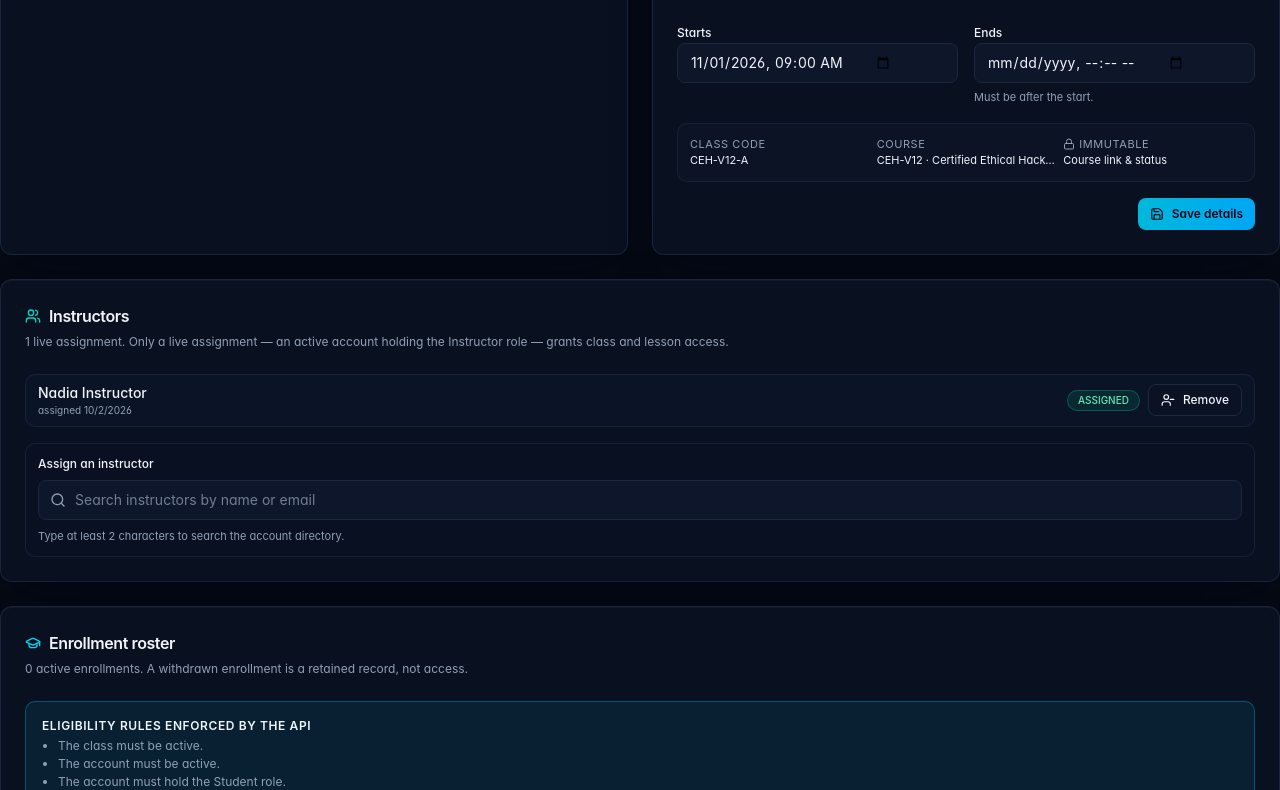
it: Step-up replay on class mutations › treats a replayed 204 removal as success, not as a cancellation
(page scrolled)
Check: the text "Nadia Instructor" is shown, box [38,383,147,403]
Click the button with aria-label "Remove Nadia Instructor": (1195, 400) [1148,384,1242,416]
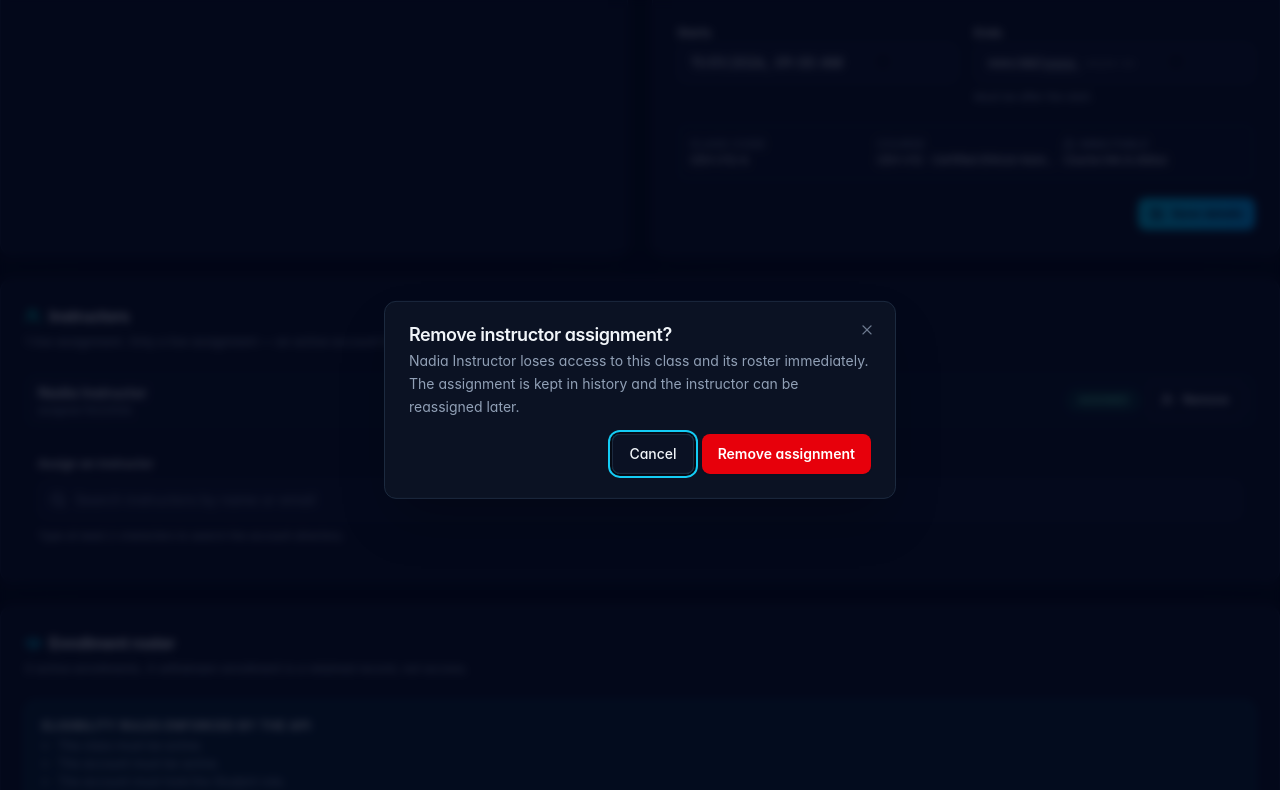
Click the button "Remove assignment": (786, 454) [702,434,871,474]
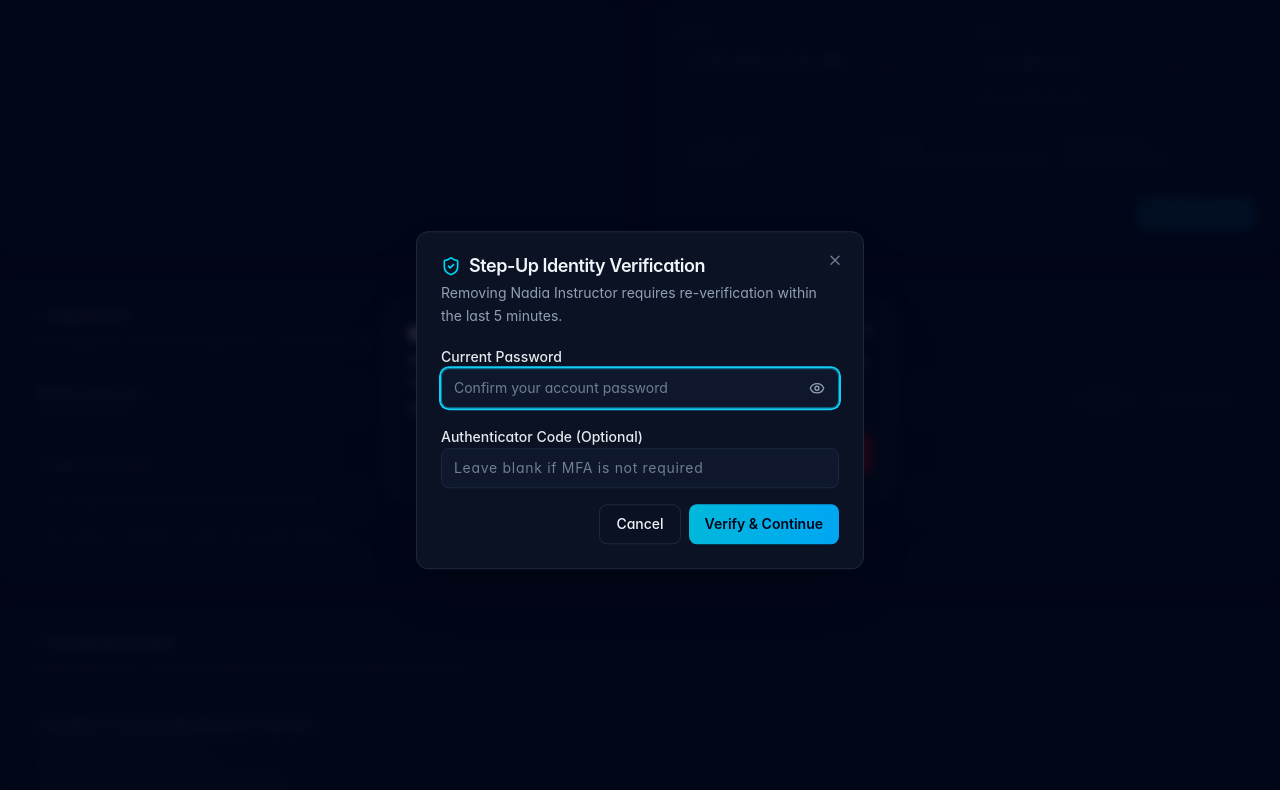
In the password field labelled "Current Password": (640, 388) [441,368,839,408], type "Correct-Horse-1"
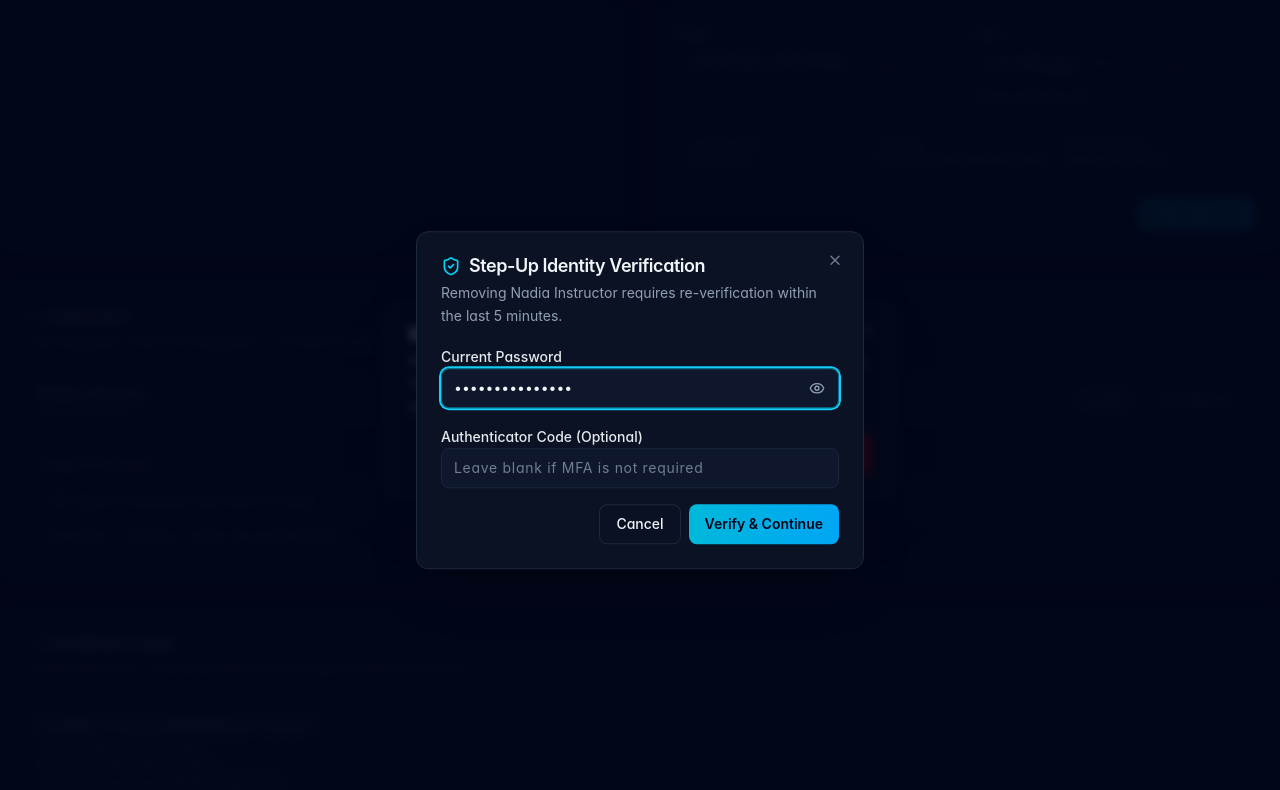
Click the button "Verify & Continue": (764, 524) [689,504,839,544]
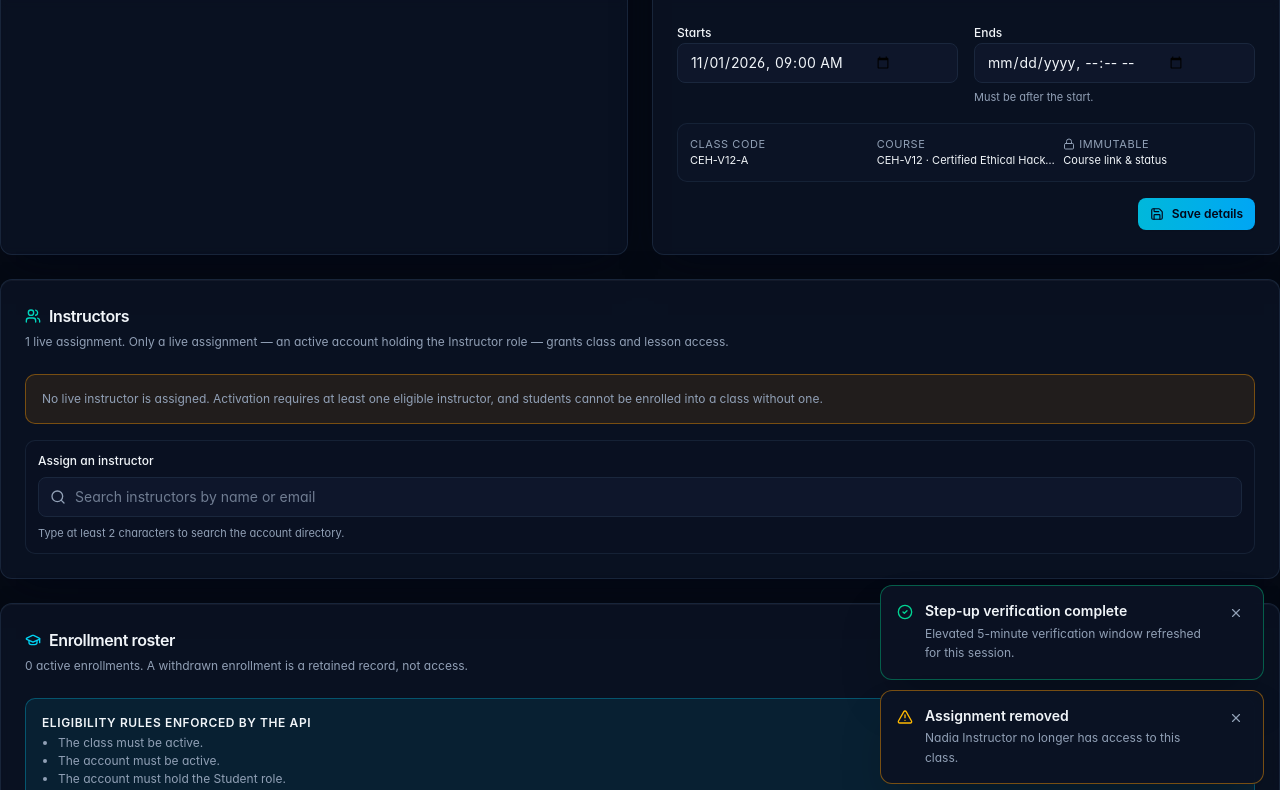
Check: the text "Assignment removed" is shown, box [925,706,1069,724]
